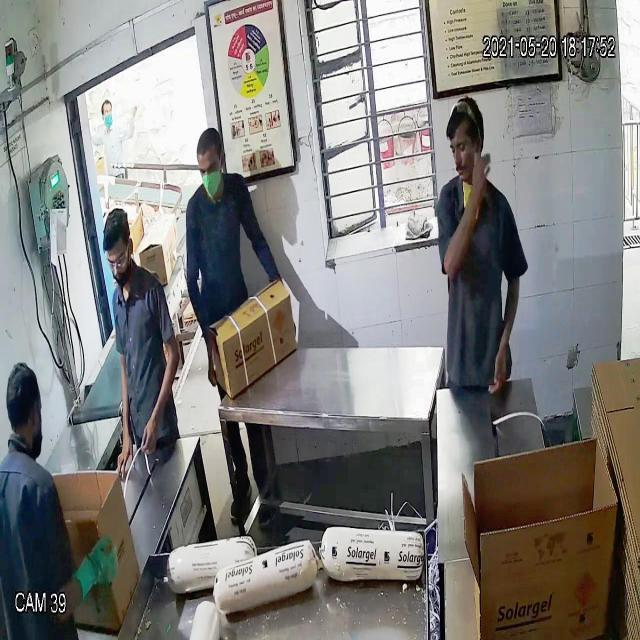glasses: (103, 248, 133, 272)
no-glass: (447, 131, 477, 161), (196, 156, 223, 182)
